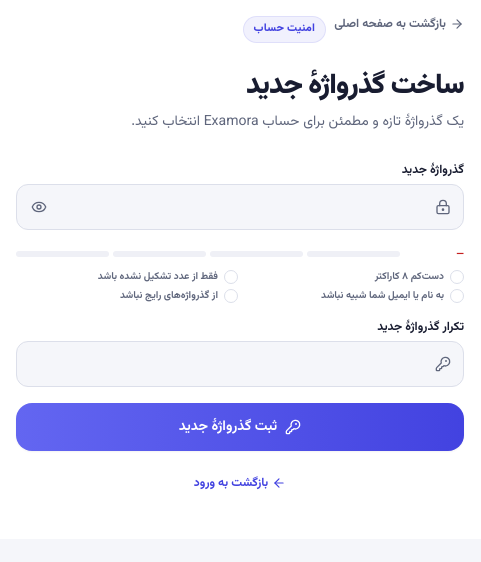
Scenario: with a usable link › resets the password and walks the visitor back to sign-in
The image size is (481, 562).
Type "کوهستان-2468-Ab!" into the password field labelled "گذرواژهٔ جدید".
click(244, 207); type("کوهستان-2468-Ab!")  # box [61,185,427,229]
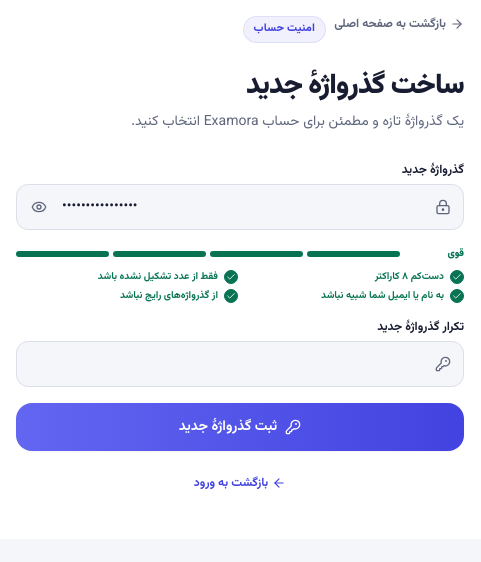
Type "کوهستان-2468-Ab!" into the password field labelled "تکرار گذرواژهٔ جدید".
click(228, 364); type("کوهستان-2468-Ab!")  # box [29,342,427,386]
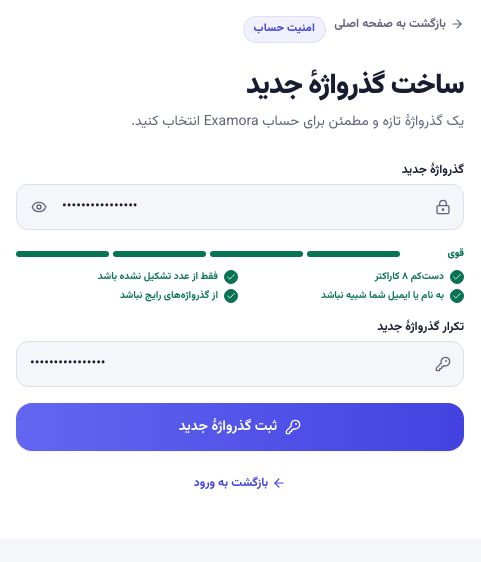
Click the button "ثبت گذرواژهٔ جدید".
click(240, 427)  # box [16,403,464,451]
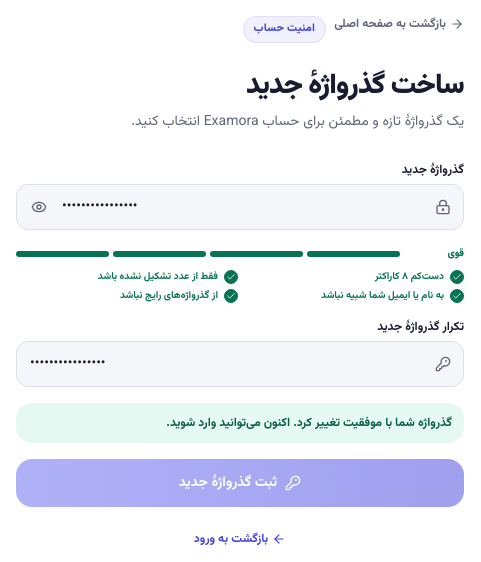
Expected: the text "گذرواژه شما با موفقیت تغییر کرد. اکنون می‌توانید وارد شوید." is shown, [16,403,464,443]
